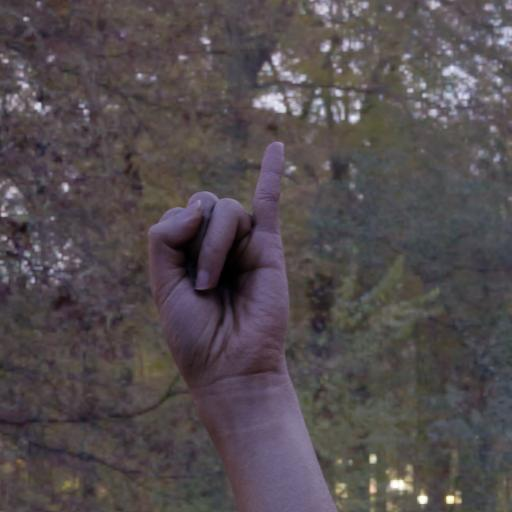I: (142, 136, 309, 376)
